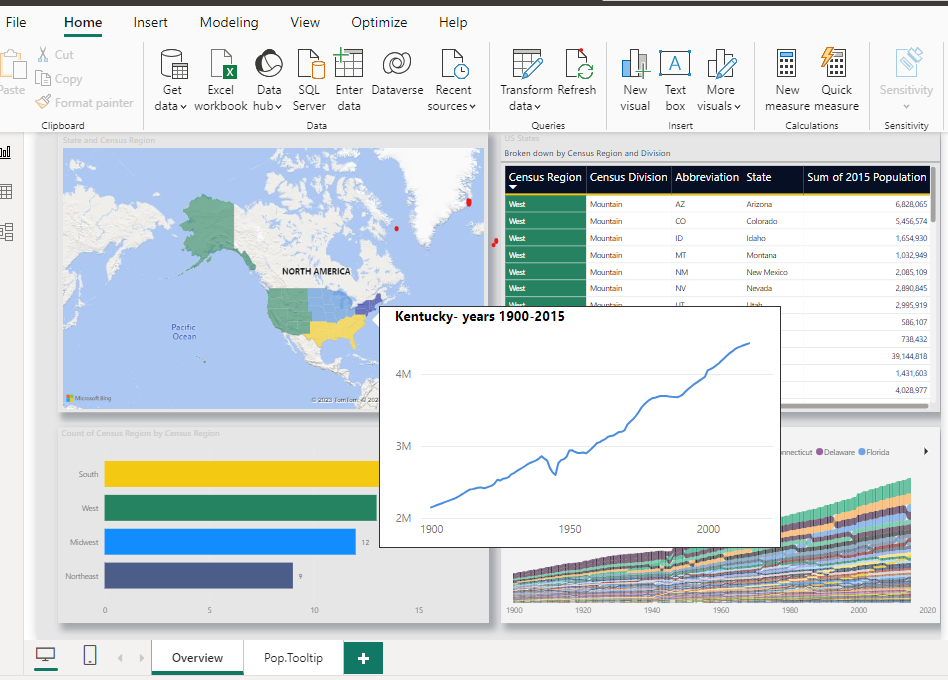

What the dashboard file says about the page in this screenshot:
{"tool":"powerbi","page":{"name":"Overview","canvas":[1280,720],"ordinal":0},"visuals":[{"type":"tableEx","title":"US States","fields":{"Values":["States.Census Region","States.Census Division","States.Abbreviation","States.State","States.2015 Population"]},"box":[657.6,0,622.2,396.9],"z":0},{"type":"filledMap","fields":{"Category":["States.State"],"Series":["States.Census Region"]},"box":[30,0,609.3,396.7],"z":1000},{"type":"barChart","fields":{"Category":["States.Census Region"],"Y":["CountNonNull(States.Census Region)"]},"box":[29.8,418.1,610.9,277.8],"z":2000},{"type":"ribbonChart","fields":{"Category":["states-population.Year"],"Series":["States.State"],"Y":["States.Population"]},"box":[657.6,418.1,622.2,277.8],"z":3000}]}

Visuals, with their boxes on the page's 1280x720 design canvas (x1, y1, x2, y2). These are canvas units, not pixel positions in the 948x680 screenshot, which may show the page scaled, cropped or inside an application window:
"US States" tableEx: crop(658, 0, 1280, 397)
filledMap - States.State x States.Census Region: crop(30, 0, 639, 397)
barChart - States.Census Region x CountNonNull(States.Census Region): crop(30, 418, 641, 696)
ribbonChart - states-population.Year x States.State: crop(658, 418, 1280, 696)
